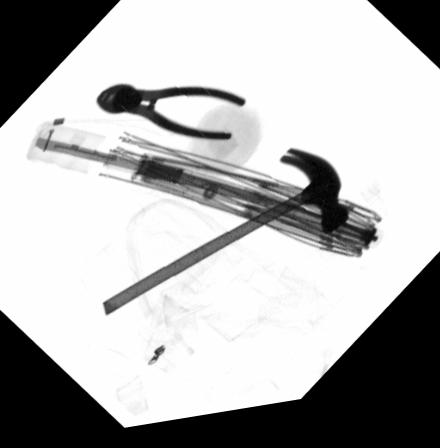Hammer: (103, 155, 350, 318)
Pliers: (95, 86, 246, 147)
